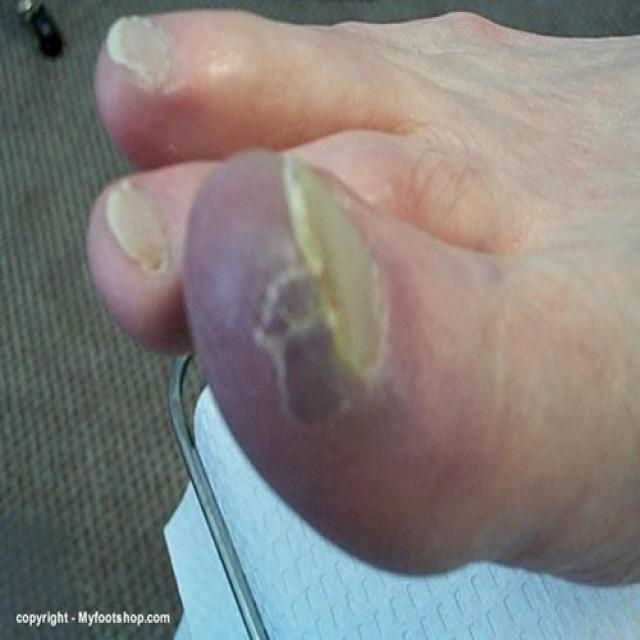raynauds: (182, 157, 550, 530)
